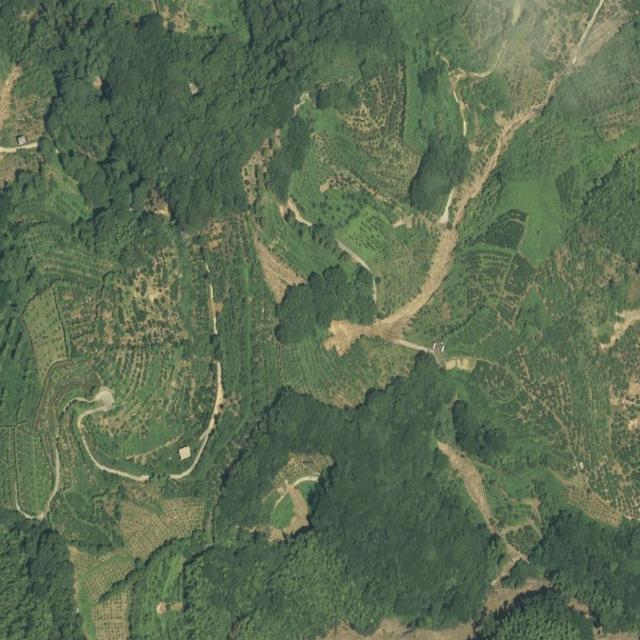landslide: (324, 76, 562, 356), (439, 441, 497, 533), (254, 231, 305, 302), (323, 619, 474, 640), (601, 310, 640, 351), (283, 487, 309, 536)
